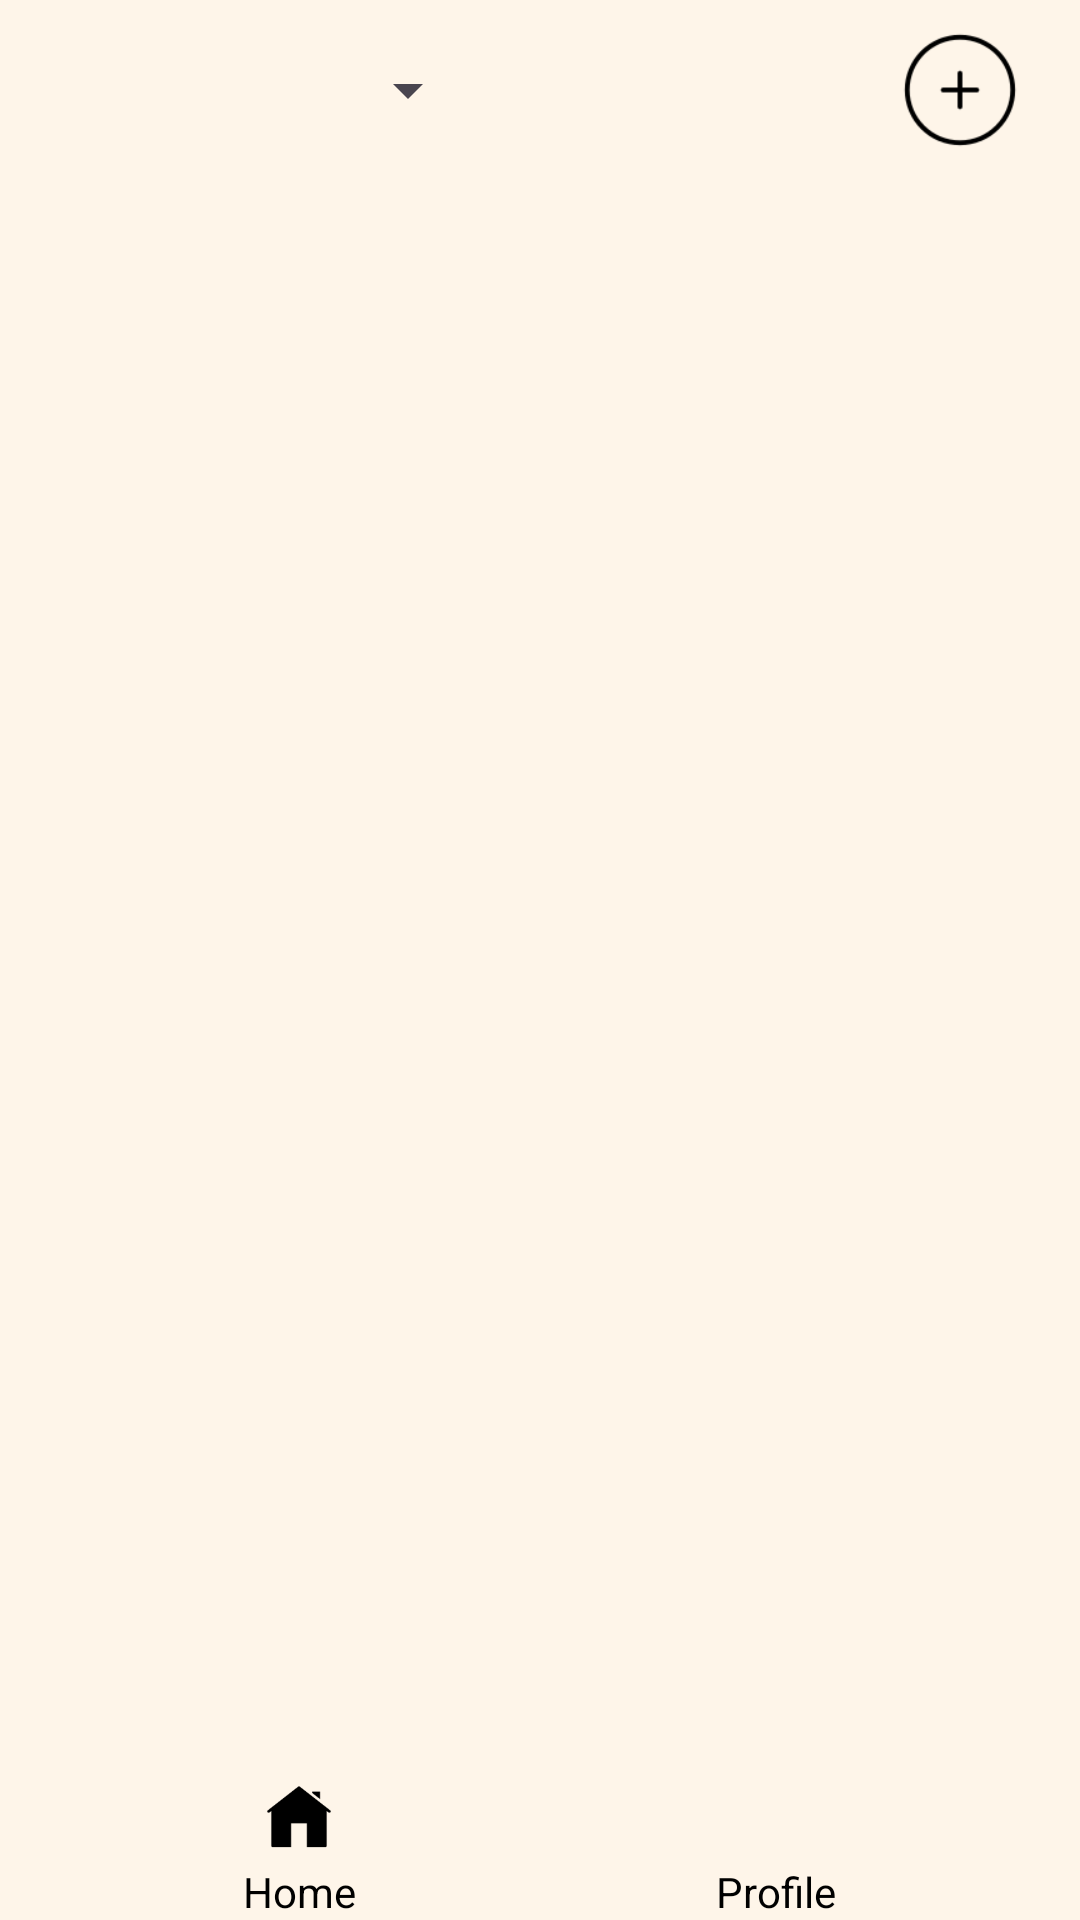

Icons on this 1080×1920 Android screen, each with the point to tap as (x=x, y=y):
add: (x=960, y=90)
